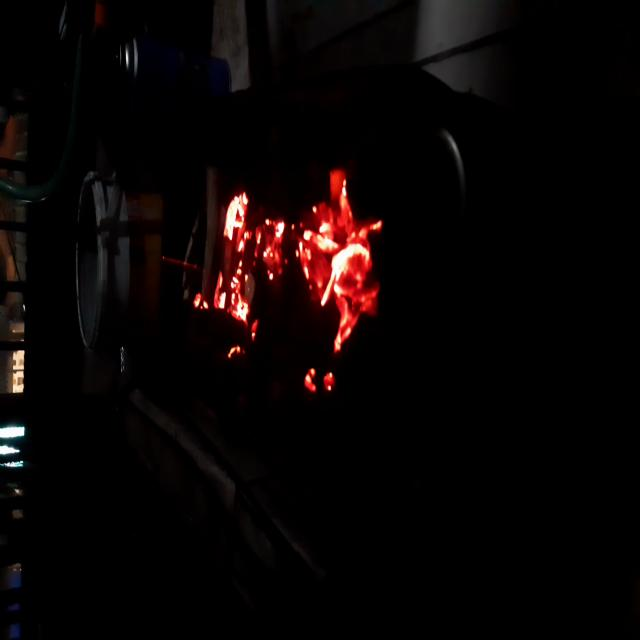Fire: (190, 180, 393, 392)
